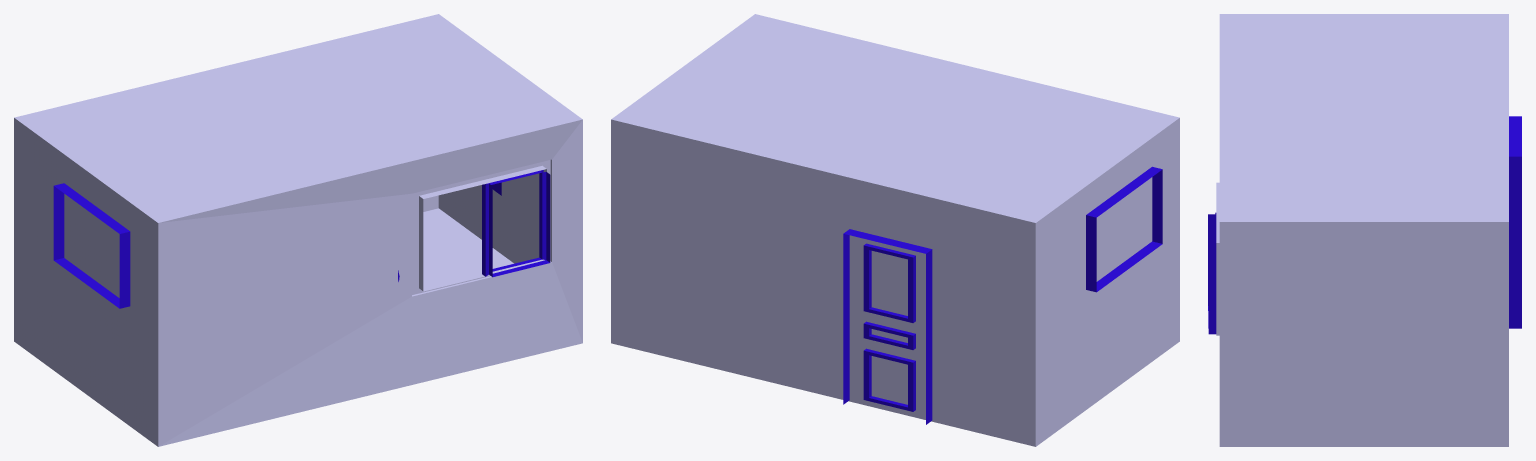
Rendered from room_colored_v2.glb.
3 views of the same model, side by side, from view 1: azimuth 30°, elevation 25°; view 2: azimuth 150°, elevation 25°; view 3: azimuth 270°, elevation 25° (orthographic).
Parts seen in each view (by area): view 1: Walls, Cube.004, Cube.003, Walls.001; view 2: Walls, Doors.001, Cube.003, Doors; view 3: Walls, Doors, Walls.001.
Part boxes in pixels (bbox=[...]): Walls: bbox=[14, 14, 582, 446]; Cube.004: bbox=[423, 208, 513, 286]; Cube.003: bbox=[53, 183, 130, 308]; Walls.001: bbox=[482, 170, 550, 277]; Walls: bbox=[611, 14, 1179, 446]; Doors.001: bbox=[863, 243, 915, 411]; Cube.003: bbox=[1086, 166, 1162, 292]; Doors: bbox=[843, 229, 932, 424]; Walls: bbox=[1216, 14, 1508, 446]; Doors: bbox=[1509, 116, 1521, 328]; Walls.001: bbox=[1208, 212, 1216, 334].
Bounding box in the file's own units: 6.11 × 3 × 3.8.
